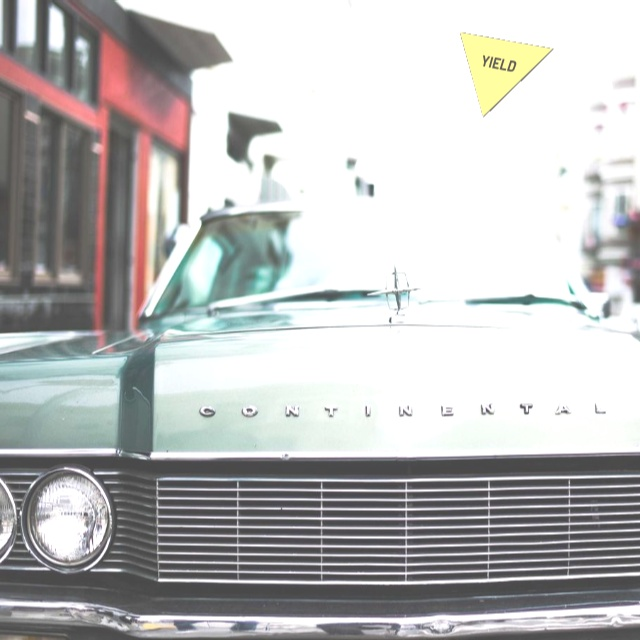YIELD: (459, 31, 554, 117)
